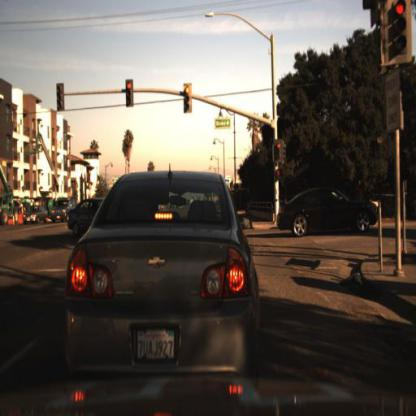car: (57, 164, 268, 410), (276, 176, 388, 248), (50, 193, 81, 228), (21, 201, 49, 233), (46, 195, 71, 230), (21, 201, 49, 229)
trafficLight: (183, 82, 193, 116), (55, 83, 66, 111)
trafficLight-Red: (381, 1, 416, 77), (274, 135, 286, 167), (125, 77, 135, 108)
